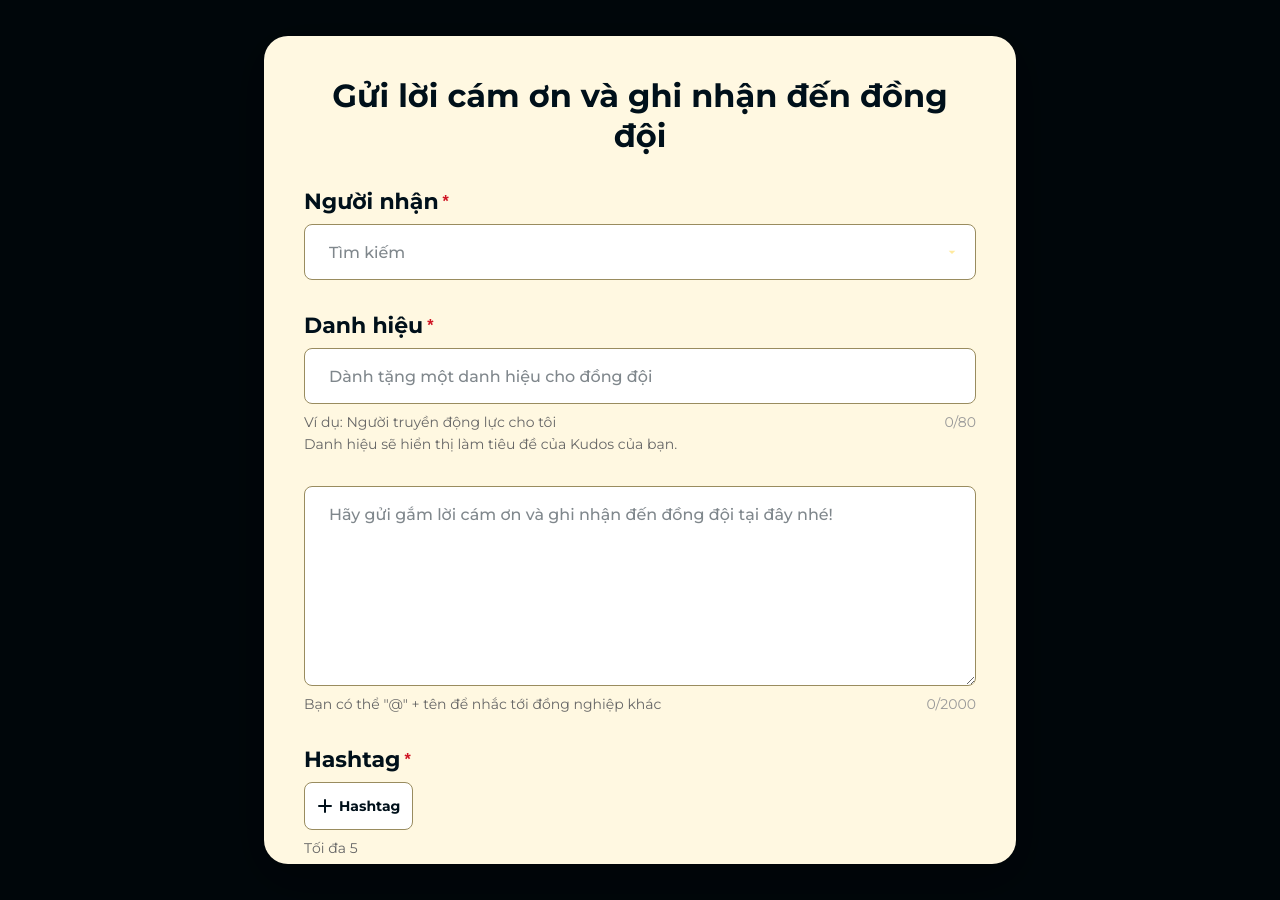
Test: <KudosComposeDialog> › surfaces self_recipient error inline on 403 from server
Type "Trần" into the dropdown with test id "kudos-compose-recipient" at x=640, y=252, box top-left (304, 224), bottom-right (976, 280)
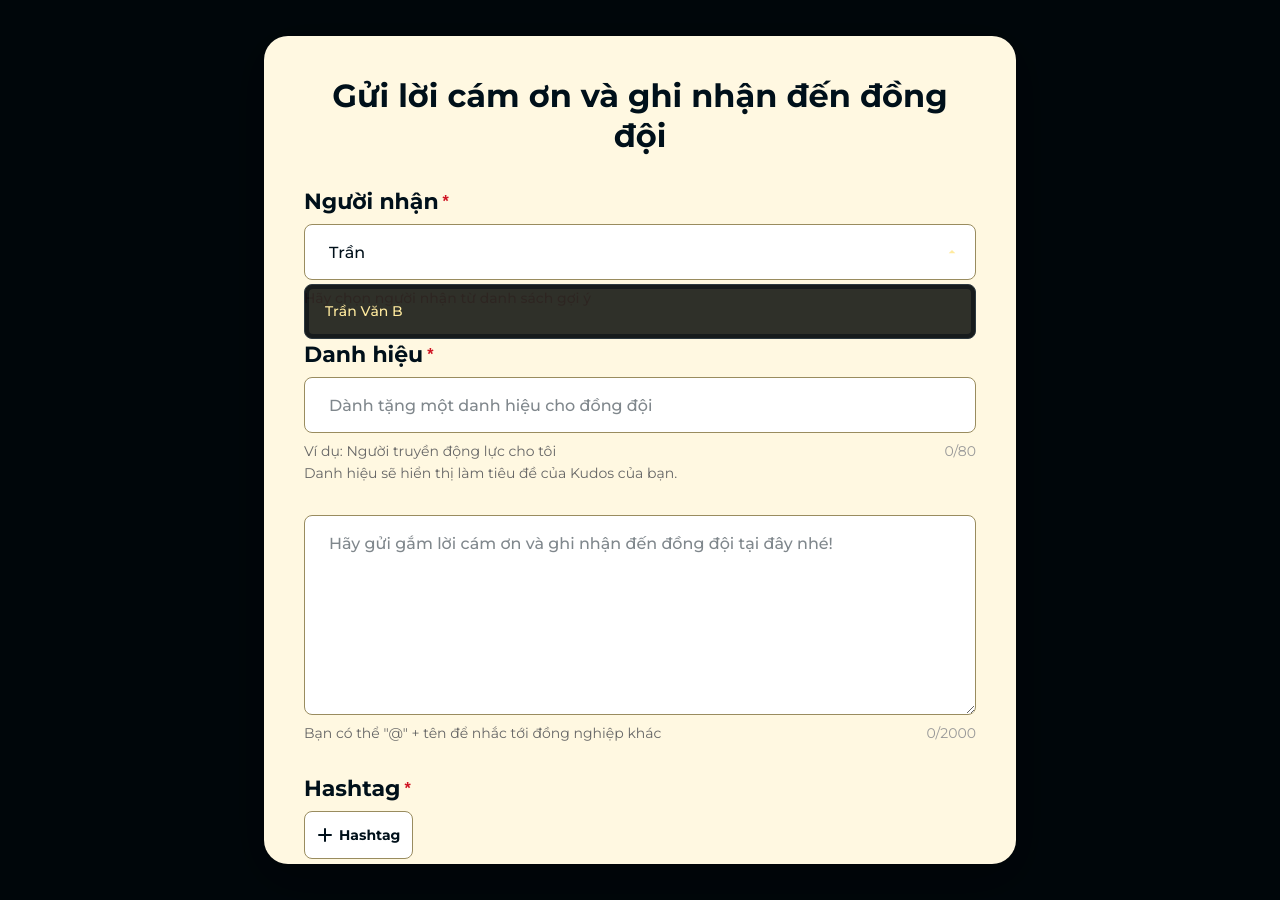
Press the mouse on the option "Trần Văn B" at x=364, y=311, box top-left (309, 289), bottom-right (971, 334)
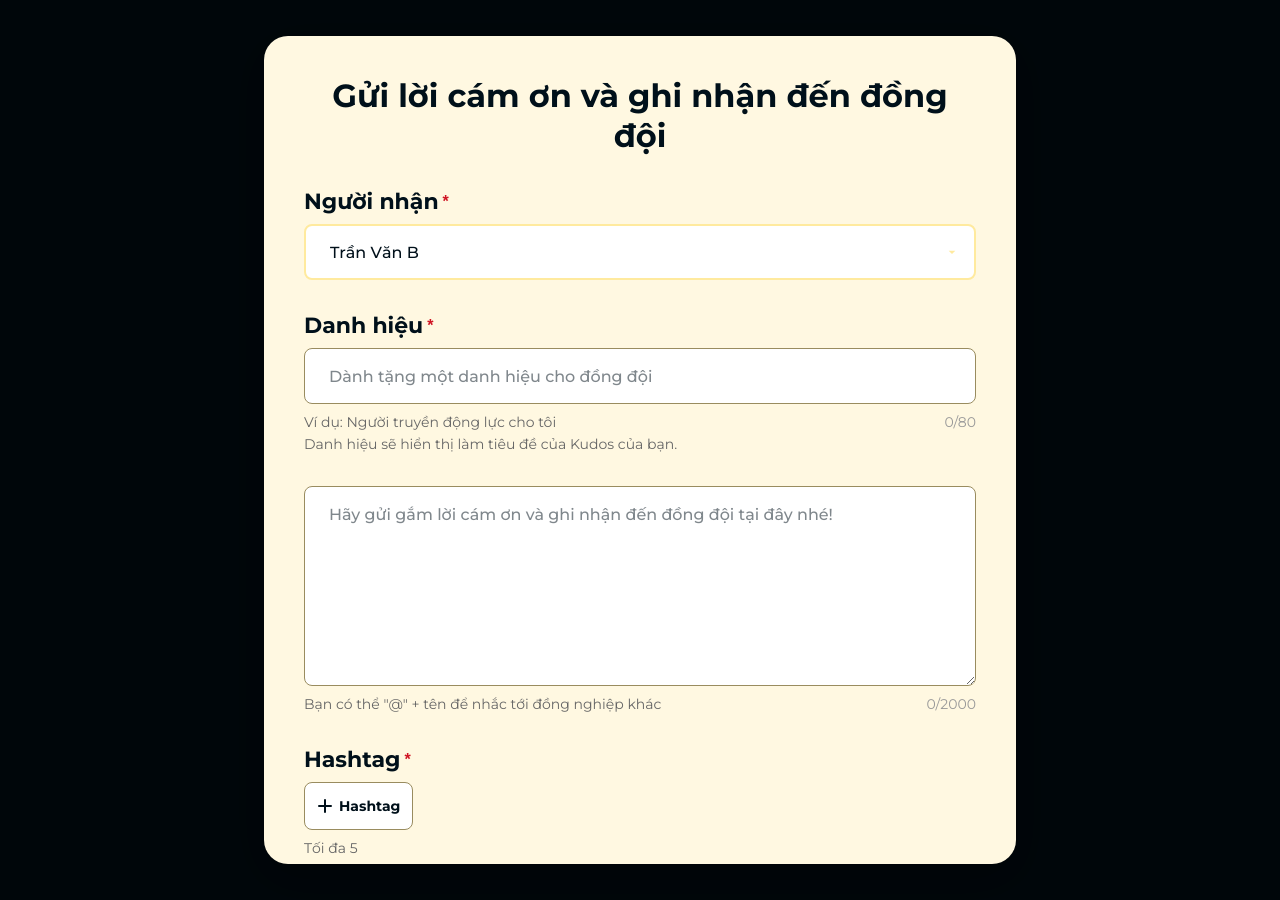
Type "Danh hiệu" into the field with test id "kudos-compose-title" at x=640, y=376, box top-left (304, 348), bottom-right (976, 404)
Type "Đây là nội dung rất dài." into the text box with test id "kudos-compose-message" at x=640, y=586, box top-left (304, 486), bottom-right (976, 686)
Click the button with test id "kudos-compose-hashtag-add" at x=359, y=806, box top-left (304, 782), bottom-right (413, 830)
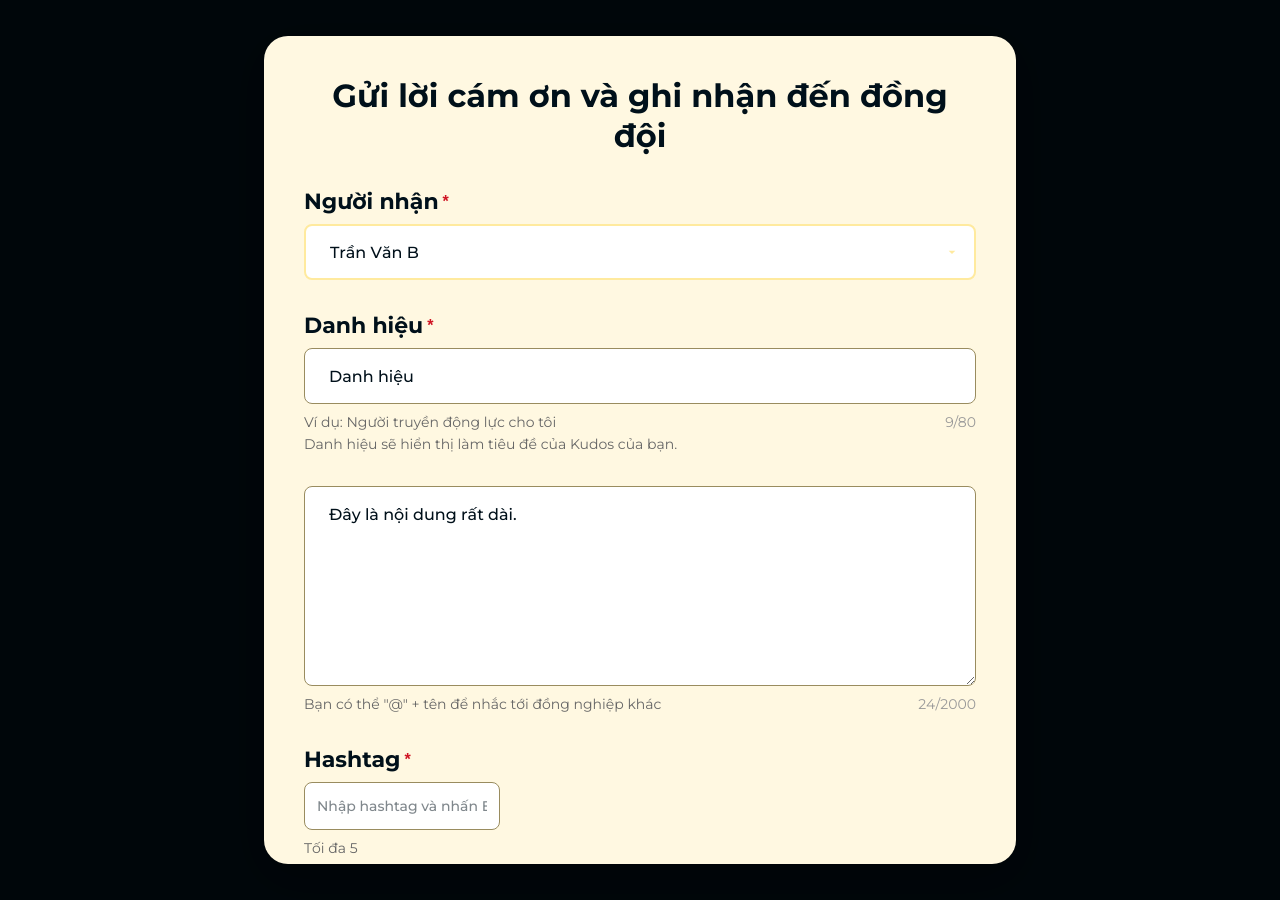
Type "teamwork" into the field with test id "kudos-compose-hashtag-input" at x=402, y=806, box top-left (304, 782), bottom-right (500, 830)
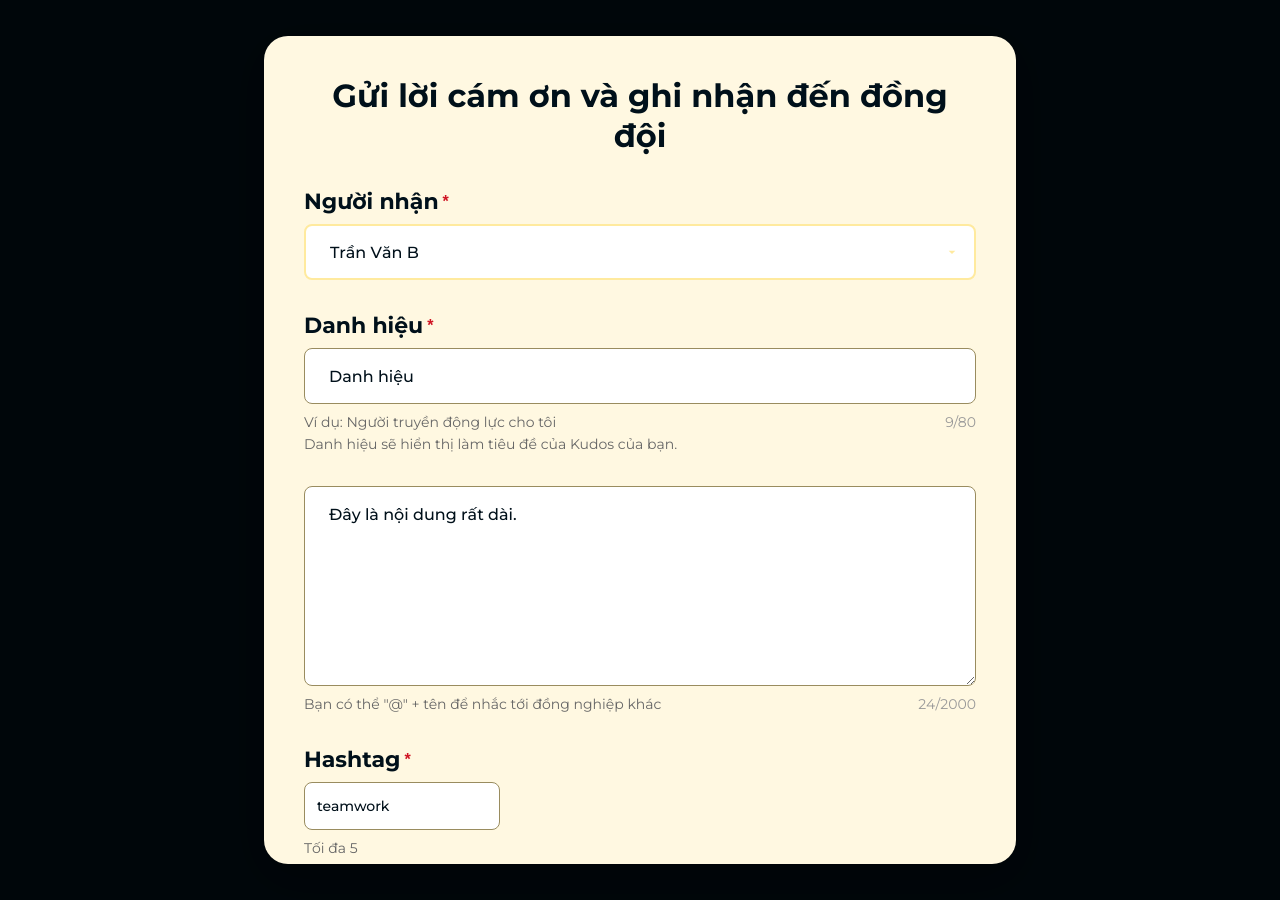
Press Enter in the field with test id "kudos-compose-hashtag-input", box top-left (304, 782), bottom-right (500, 830)
(page scrolled)
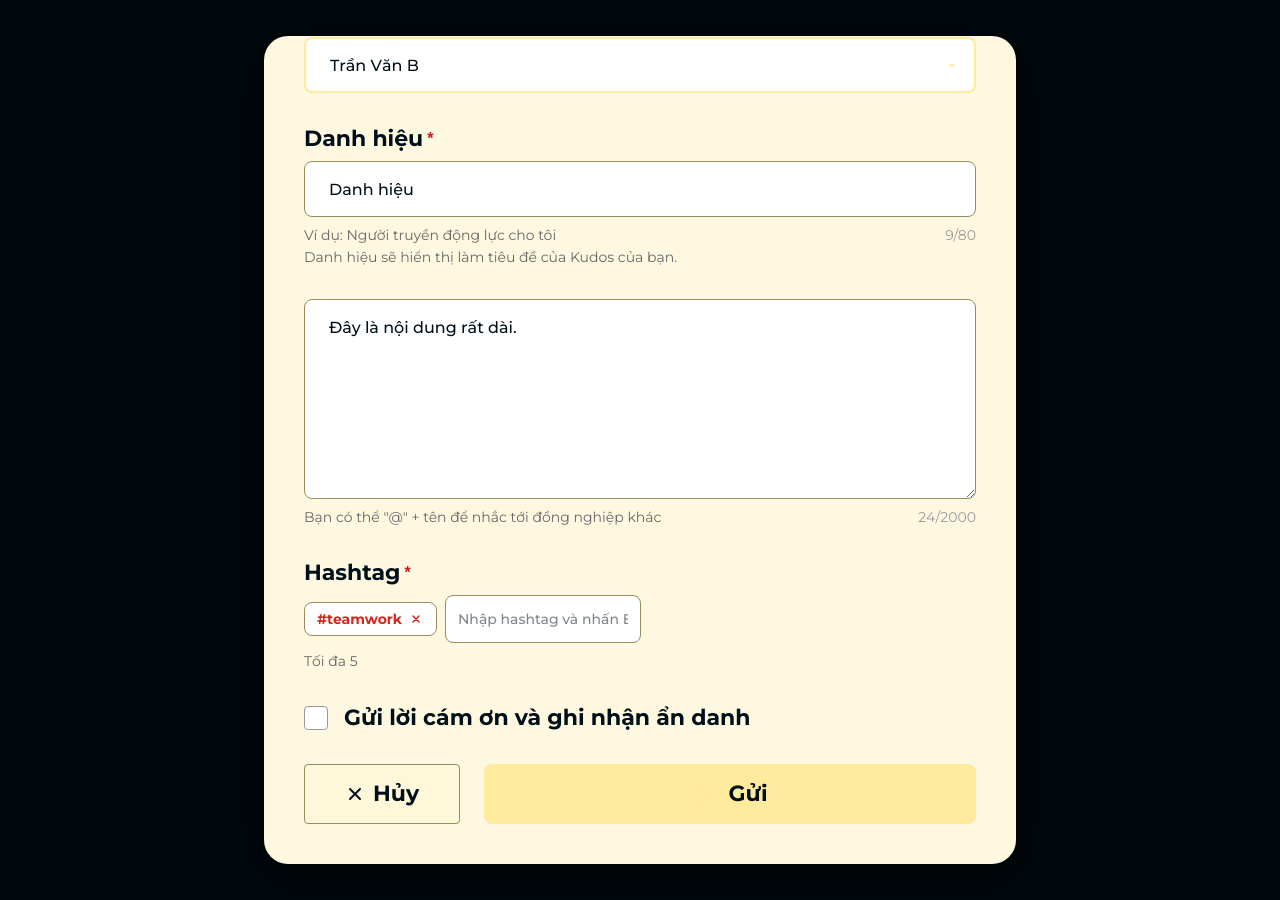
Click the button with test id "kudos-compose-submit" at x=730, y=794, box top-left (484, 764), bottom-right (976, 824)
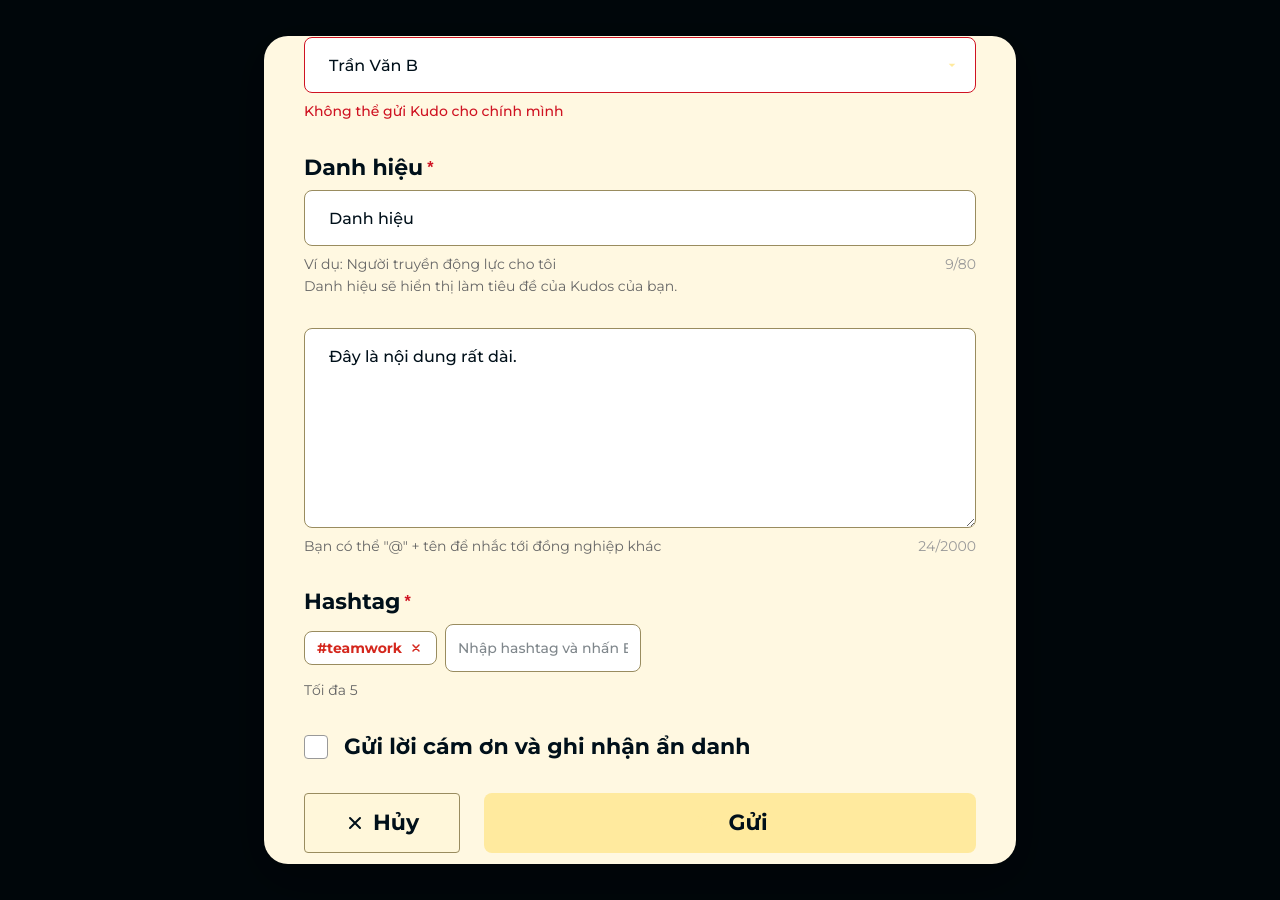
Check: the text "Không thể gửi Kudo cho chính mình" is shown, box top-left (304, 102), bottom-right (564, 120)
